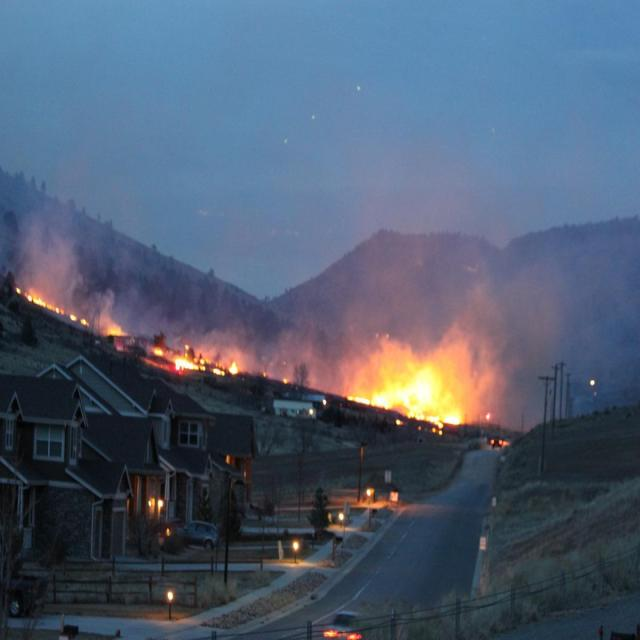fire: (348, 341, 473, 436), (3, 279, 128, 344), (144, 321, 246, 389)
